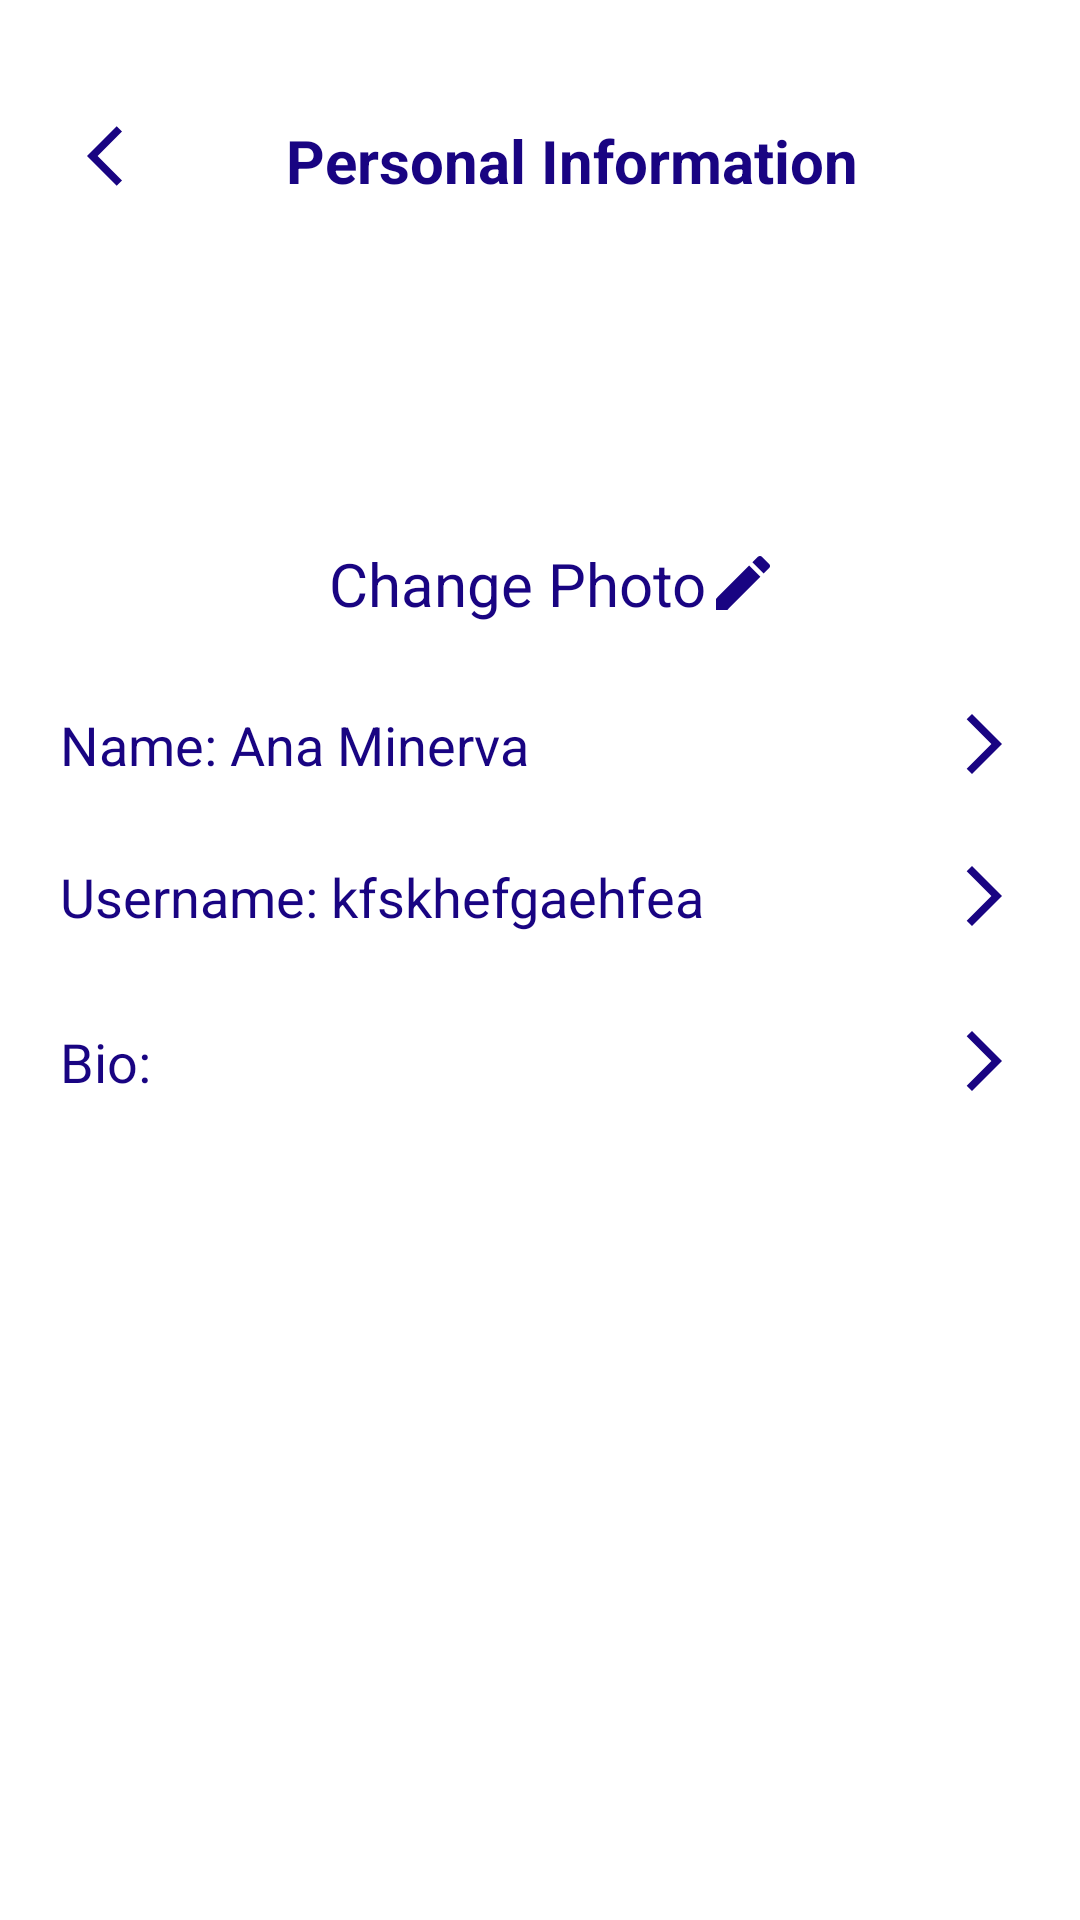

Locate icon controls on the screen. Image size 1080*1920, boxes as (x1, y1, x2, y2).
arrow back: (87, 126, 122, 186)
